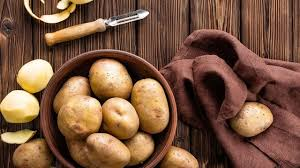potato: (66, 128, 132, 168), (125, 75, 170, 131), (59, 89, 110, 135), (89, 58, 135, 101), (233, 101, 277, 141), (103, 97, 142, 141), (13, 138, 56, 168), (3, 88, 34, 126), (161, 146, 207, 167), (19, 60, 51, 87)
